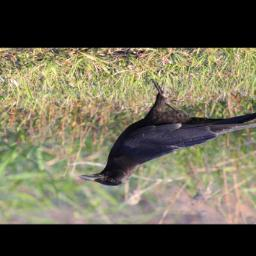Crow: (77, 75, 256, 188)
